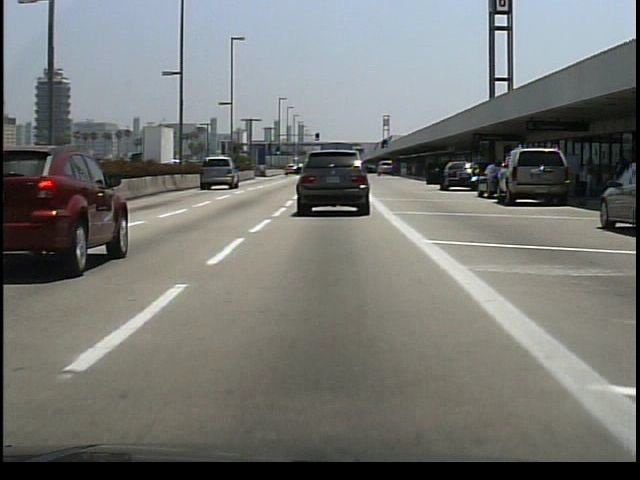person: (581, 154, 597, 198)
